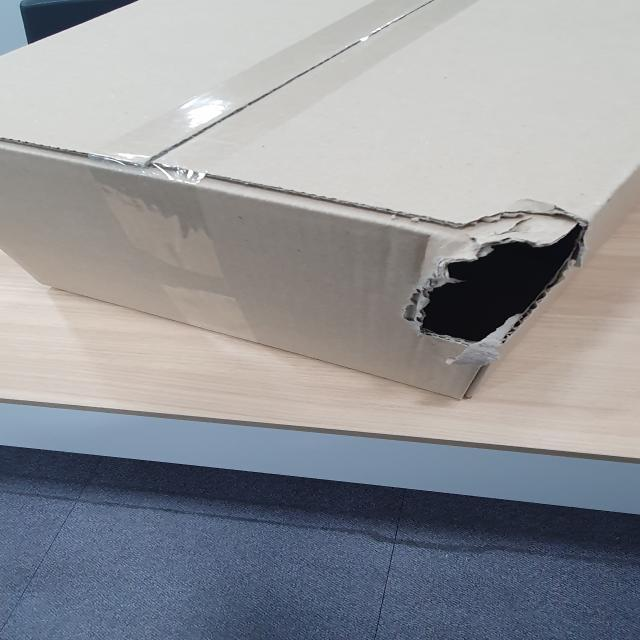hole: (408, 218, 586, 359)
